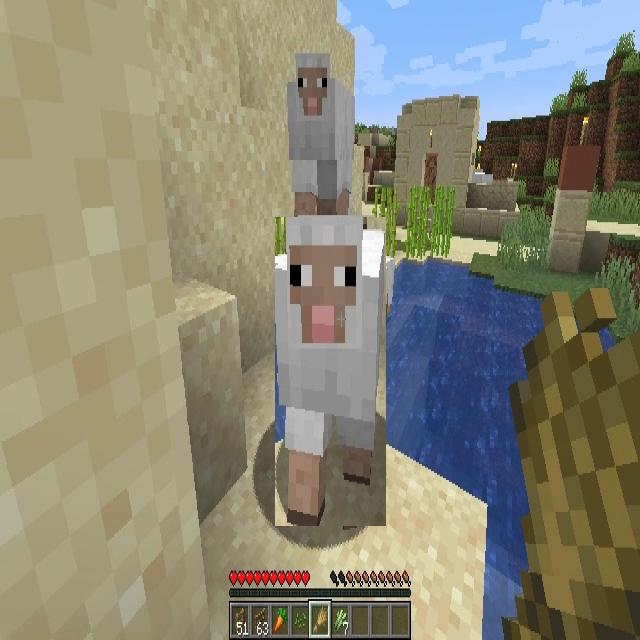sheep: (275, 217, 386, 526), (289, 56, 355, 230)
